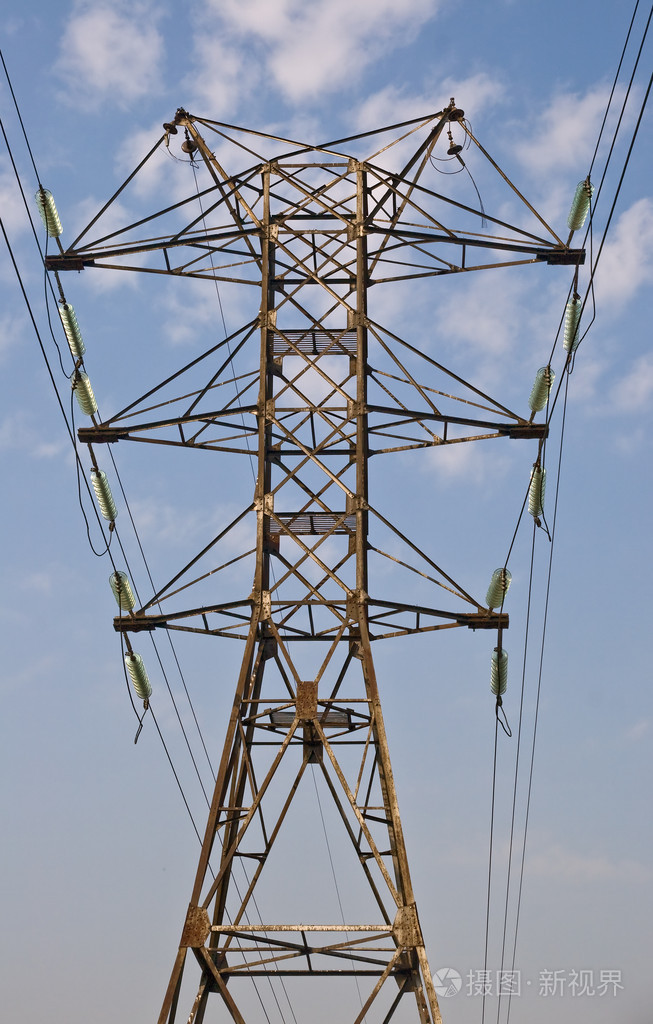insulator: (59, 299, 85, 358), (90, 468, 117, 523), (566, 180, 595, 230), (33, 186, 60, 236), (526, 461, 551, 514), (560, 296, 583, 353), (124, 653, 150, 701), (70, 373, 98, 417), (525, 367, 555, 408), (488, 649, 514, 694), (485, 567, 514, 601), (109, 570, 133, 611)
